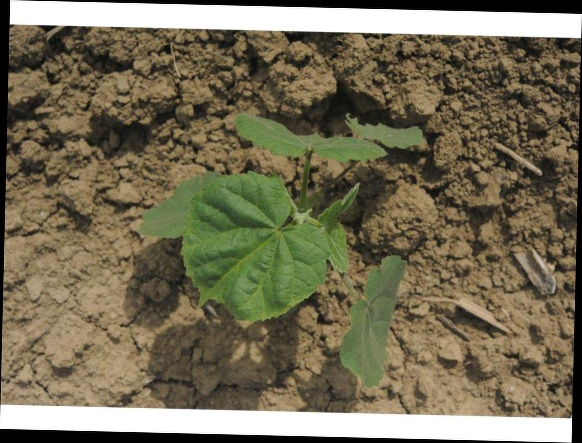velvet: (139, 114, 422, 387)
